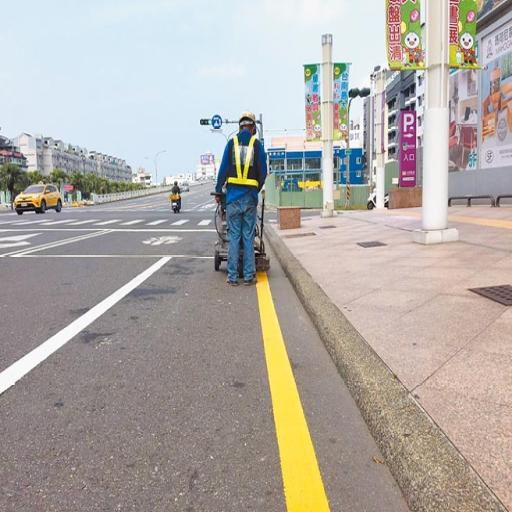car: (10, 168, 70, 225)
yellowline: (246, 245, 340, 512)
